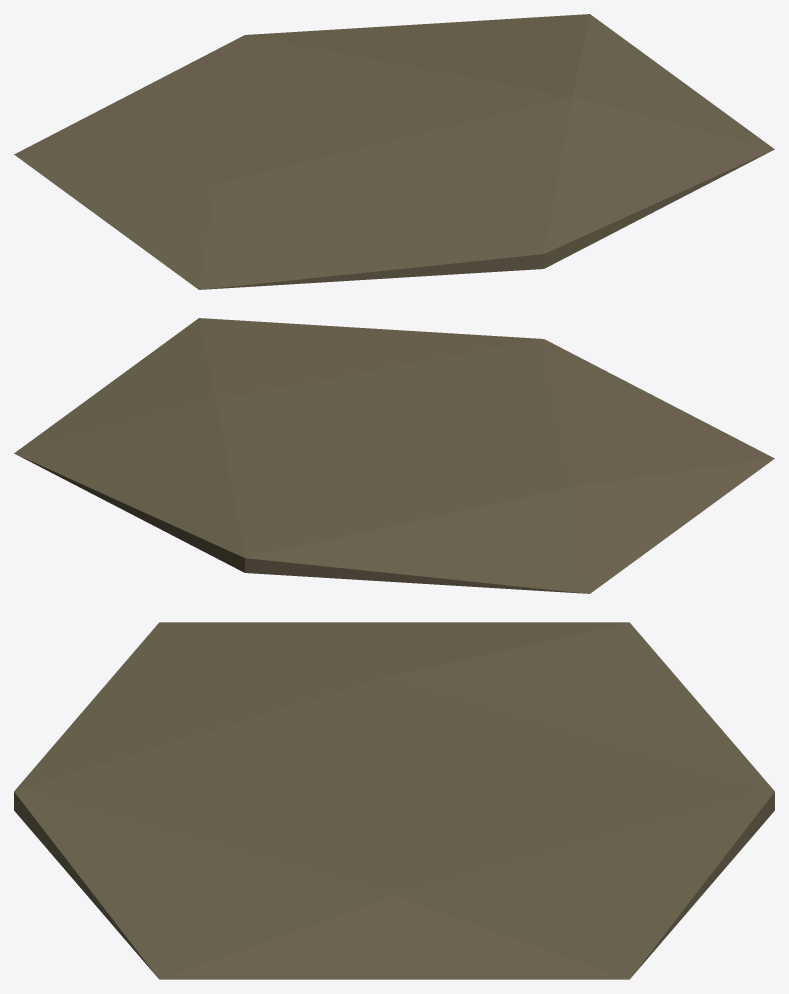
Rendered from dry_soil-far.glb.
3 views of the same model, one above another, from view 1: azimuth 30°, elevation 25°; view 2: azimuth 150°, elevation 25°; view 3: azimuth 270°, elevation 25° (orthographic). The views are drawn at different scales.
Visible parts, largest first — view 1: world-scenery/dry_soil-far; view 2: world-scenery/dry_soil-far; view 3: world-scenery/dry_soil-far.
Part boxes in pixels (bbox=[...]): world-scenery/dry_soil-far: bbox=[14, 14, 774, 289]; world-scenery/dry_soil-far: bbox=[14, 318, 774, 593]; world-scenery/dry_soil-far: bbox=[14, 622, 774, 979].
Size of the model in its own units: 5.1 by 0.2042 by 4.59.
